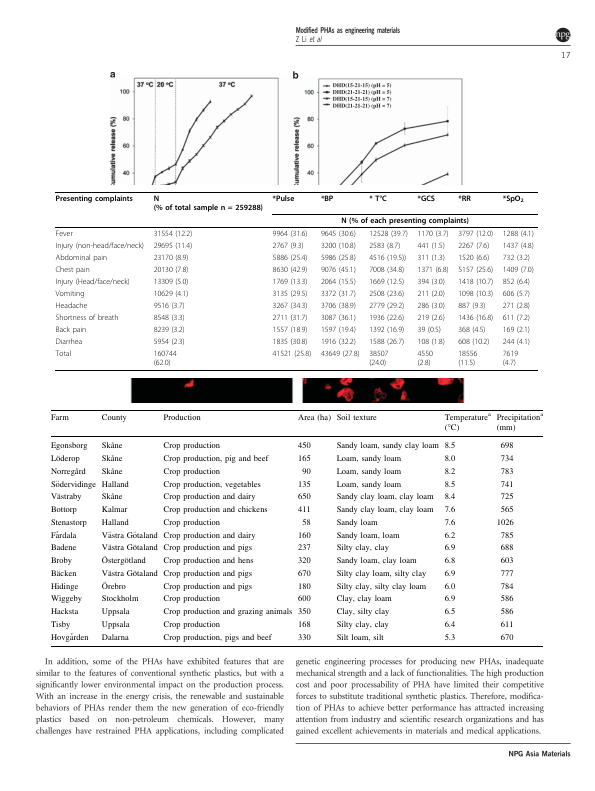borderless: (50, 408, 543, 646), (54, 190, 538, 370)
cell: (153, 194, 264, 212), (162, 607, 293, 617), (340, 216, 470, 226), (162, 633, 272, 643), (443, 411, 492, 433), (495, 411, 544, 433), (162, 454, 269, 464), (162, 505, 268, 515), (335, 442, 440, 452), (162, 480, 261, 490), (335, 493, 434, 503), (335, 505, 434, 515), (162, 493, 256, 503), (162, 531, 256, 541), (162, 556, 254, 566), (335, 569, 427, 579), (335, 582, 427, 592), (162, 544, 253, 554), (162, 569, 253, 579), (162, 582, 253, 592), (55, 241, 145, 251), (335, 556, 417, 566), (55, 277, 131, 287), (55, 194, 134, 203), (335, 454, 402, 464), (335, 467, 402, 477), (335, 480, 402, 490), (335, 531, 400, 541), (55, 313, 119, 323), (162, 442, 221, 452), (162, 467, 221, 477), (162, 518, 221, 528), (162, 595, 221, 605), (162, 620, 221, 630), (100, 531, 158, 541), (100, 544, 158, 554), (100, 569, 158, 579), (335, 595, 392, 605), (335, 607, 390, 617), (335, 544, 389, 554), (335, 620, 389, 630), (55, 253, 108, 263), (100, 555, 146, 566), (335, 633, 384, 643), (50, 480, 97, 490), (153, 349, 177, 367), (335, 518, 378, 528), (335, 413, 377, 423), (368, 229, 409, 239), (153, 229, 193, 239), (153, 241, 193, 251), (368, 253, 407, 263), (162, 413, 201, 423), (100, 595, 139, 605), (50, 633, 89, 643), (50, 442, 88, 452), (368, 349, 389, 367), (457, 349, 478, 367), (320, 229, 357, 239), (457, 229, 494, 239), (320, 241, 357, 251), (320, 253, 357, 263), (320, 265, 357, 275), (368, 265, 405, 275), (457, 265, 494, 275), (320, 277, 357, 287), (368, 277, 405, 287), (457, 277, 494, 287), (320, 289, 357, 299), (368, 289, 405, 299), (457, 289, 494, 299), (320, 301, 357, 311), (368, 301, 405, 311), (320, 313, 357, 323), (368, 313, 405, 323), (457, 313, 494, 323), (50, 518, 87, 528), (272, 229, 308, 239), (153, 253, 189, 263), (272, 253, 308, 263), (55, 265, 91, 275), (153, 265, 189, 275), (272, 265, 308, 275), (153, 277, 189, 287), (272, 277, 308, 287), (153, 289, 189, 299), (272, 289, 308, 299), (272, 301, 308, 311), (272, 313, 308, 323), (272, 349, 312, 358), (320, 349, 360, 358), (50, 467, 86, 477), (297, 413, 332, 423), (320, 325, 357, 334), (368, 325, 405, 334), (320, 337, 357, 346), (368, 337, 405, 346), (416, 229, 449, 239), (502, 229, 535, 239), (272, 241, 305, 251), (368, 241, 401, 251), (457, 241, 490, 251), (502, 241, 535, 251), (457, 253, 490, 263), (416, 265, 449, 275), (502, 265, 535, 275), (55, 301, 88, 311), (153, 301, 186, 311), (153, 313, 186, 323), (50, 595, 83, 605), (272, 325, 308, 334), (272, 337, 308, 346), (416, 349, 434, 367), (50, 493, 82, 503), (100, 580, 126, 592), (502, 349, 519, 367), (416, 241, 446, 251), (416, 253, 446, 263), (416, 277, 446, 287), (55, 289, 85, 299), (416, 289, 446, 299), (416, 301, 446, 311), (416, 313, 446, 323), (50, 454, 80, 464), (100, 607, 130, 617), (100, 620, 130, 630), (153, 325, 186, 334), (153, 337, 186, 346), (457, 337, 490, 346), (502, 253, 531, 263), (502, 277, 531, 287), (502, 289, 531, 299), (457, 301, 486, 311), (502, 301, 531, 311), (502, 313, 531, 323), (100, 480, 129, 490), (100, 518, 129, 528), (50, 582, 79, 592), (50, 607, 79, 617), (100, 633, 129, 643), (55, 325, 87, 334), (100, 505, 128, 515), (416, 337, 446, 346), (100, 413, 127, 423), (50, 505, 77, 515), (50, 531, 77, 541), (50, 544, 77, 554), (50, 569, 77, 579), (457, 325, 486, 334), (502, 325, 531, 334), (502, 337, 531, 346), (100, 441, 123, 452), (100, 492, 123, 503), (55, 337, 83, 346), (416, 325, 442, 334), (502, 194, 525, 204), (100, 454, 123, 464), (100, 467, 123, 477), (50, 556, 73, 566), (50, 620, 71, 630), (272, 194, 295, 203), (49, 413, 69, 423), (55, 229, 74, 239), (495, 518, 514, 528), (368, 194, 388, 203), (416, 194, 436, 203), (55, 349, 72, 358), (499, 442, 514, 452), (499, 454, 514, 464), (499, 467, 514, 477), (499, 480, 514, 490), (499, 493, 514, 503), (499, 505, 514, 515), (499, 531, 514, 541), (499, 544, 514, 554), (499, 556, 514, 566), (499, 569, 514, 579), (499, 582, 514, 592), (499, 595, 514, 605), (499, 607, 514, 617), (499, 620, 514, 630), (499, 633, 514, 643), (297, 442, 311, 452), (297, 454, 311, 464), (297, 480, 311, 490), (297, 493, 311, 503), (297, 505, 311, 515), (297, 531, 311, 541), (297, 544, 311, 554), (297, 556, 311, 566), (297, 569, 311, 579), (297, 582, 311, 592), (297, 595, 311, 605), (297, 607, 311, 617), (297, 620, 311, 630), (297, 633, 311, 643), (457, 194, 472, 203), (443, 442, 456, 452), (443, 454, 456, 464), (443, 467, 456, 477), (443, 480, 456, 490), (443, 493, 456, 503), (443, 505, 456, 515), (443, 518, 456, 528), (443, 531, 456, 541), (443, 544, 456, 554), (443, 556, 456, 566), (443, 569, 456, 579), (443, 582, 456, 592), (443, 595, 456, 605), (443, 607, 456, 617), (443, 620, 456, 630), (443, 633, 456, 643), (320, 194, 334, 203), (301, 467, 311, 477), (301, 518, 311, 528)
